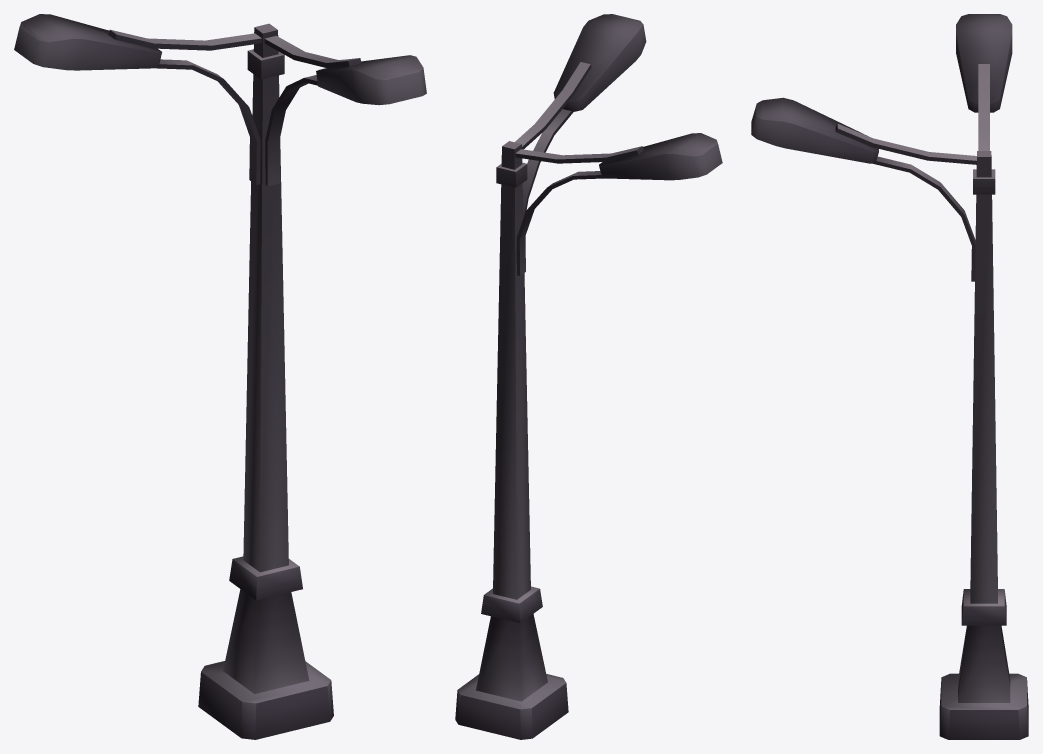
File: Streetlight_2B.fbx
3 renders of one model, left to right at view 1: azimuth 30°, elevation 25°; view 2: azimuth 150°, elevation 25°; view 3: azimuth 270°, elevation 25°, orthographic. The views are drawn at different scales.
Parts seen in each view (by area): view 1: Streetlight_2B; view 2: Streetlight_2B; view 3: Streetlight_2B.
Boxes of the visible parts, bbox=[...] form: Streetlight_2B: bbox=[14, 14, 426, 739]; Streetlight_2B: bbox=[455, 14, 722, 739]; Streetlight_2B: bbox=[751, 14, 1028, 739].
Bounding box in the file's own units: 340 × 829 × 340.
